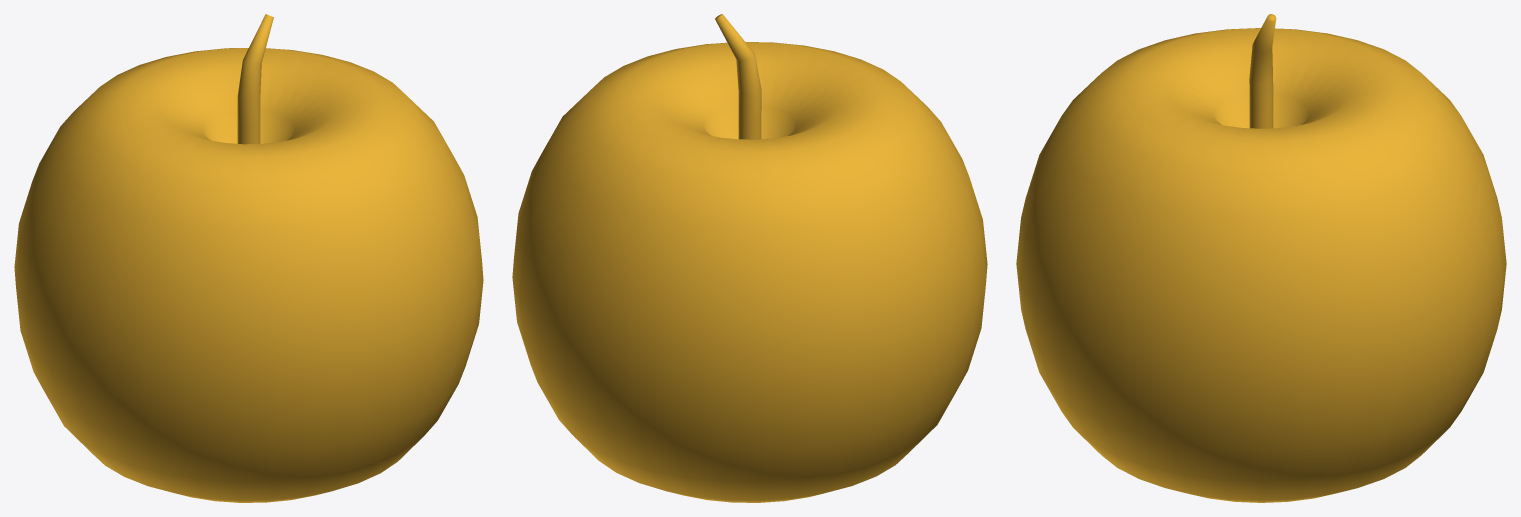
Rendered from Golden Apple.fbx.
3 renders of one model, left to right at view 1: azimuth 30°, elevation 25°; view 2: azimuth 150°, elevation 25°; view 3: azimuth 270°, elevation 25°, orthographic. The views are drawn at different scales.
Visible parts, largest first — view 1: Sphere; view 2: Sphere; view 3: Sphere.
Boxes of the visible parts, x1,y1,x2,y2 form: Sphere: (14, 14, 483, 502); Sphere: (512, 14, 987, 502); Sphere: (1016, 14, 1506, 502).
Size of the model in its own units: 0.2 by 0.2 by 0.2.
